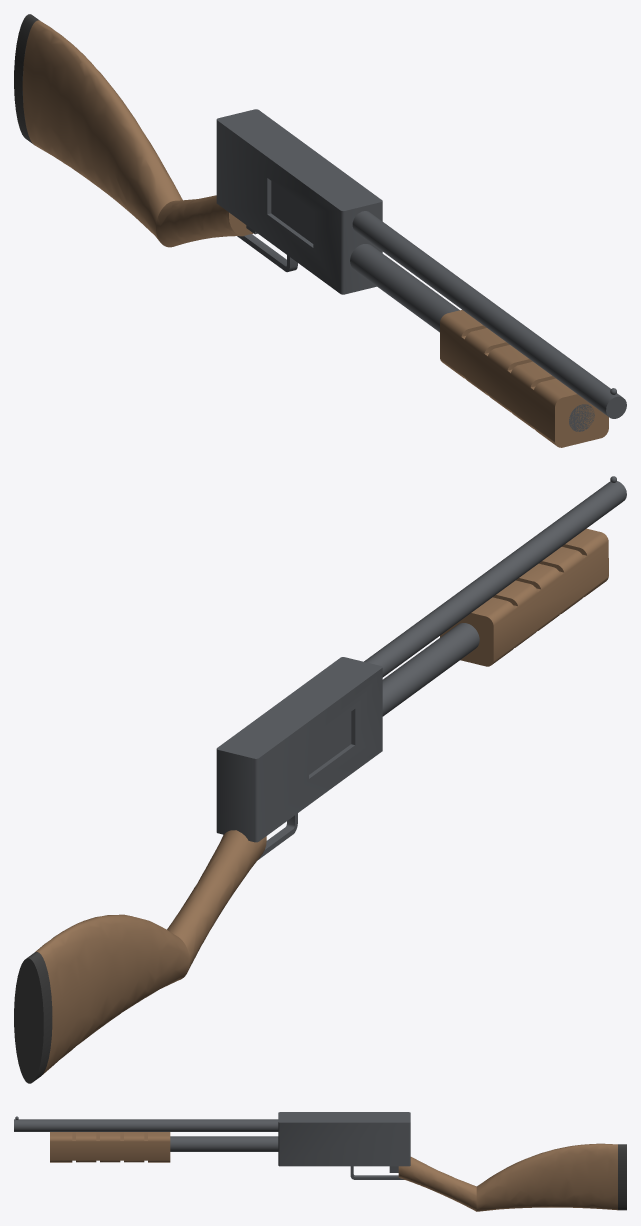
The model's file is shotgun.glb.
The picture shows the model from 3 angles, top to bottom: view 1: azimuth 30°, elevation 25°; view 2: azimuth 150°, elevation 25°; view 3: azimuth 270°, elevation 25°; orthographic projection. The views are drawn at different scales.
Visible parts, largest first — view 1: shotgun; view 2: shotgun; view 3: shotgun.
Boxes of the visible parts, <box> form: shotgun: <box>14,14,626,447</box>; shotgun: <box>14,476,626,1083</box>; shotgun: <box>14,1112,626,1211</box>.
Size of the model in its own units: 0.0539 by 0.1735 by 1.02.
